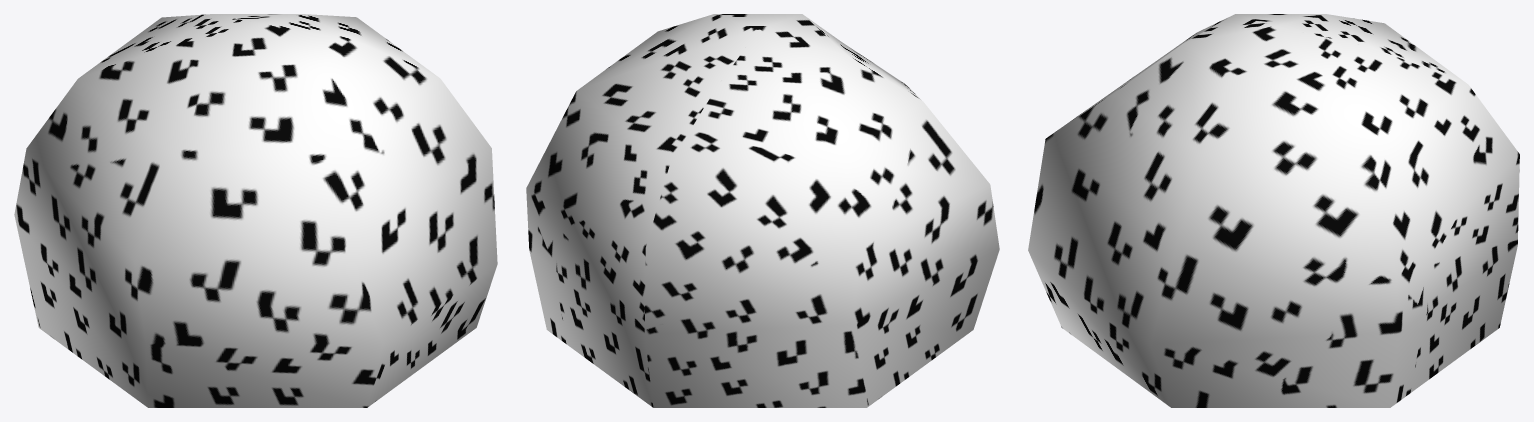
The model's file is Bush1.fbx.
The picture shows the model from 3 angles, left to right: view 1: azimuth 30°, elevation 25°; view 2: azimuth 150°, elevation 25°; view 3: azimuth 270°, elevation 25°; orthographic projection. The views are drawn at different scales.
Visible parts, largest first — view 1: Sphere; view 2: Sphere; view 3: Sphere.
Boxes of the visible parts, <box> form: Sphere: <box>14,14,497,407</box>; Sphere: <box>526,14,999,407</box>; Sphere: <box>1028,14,1519,407</box>.
Bounding box in the file's own units: 176 × 141 × 208.
